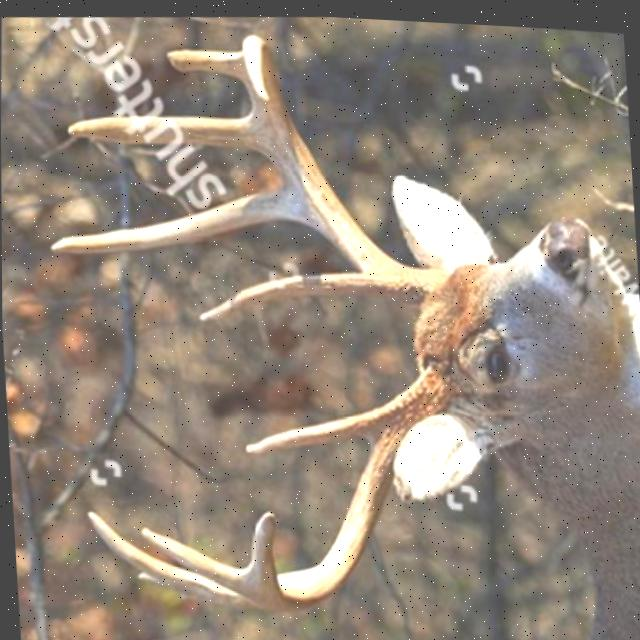L-F: (242, 30, 448, 303)
L-G1: (195, 268, 380, 319)
L-G2: (47, 184, 303, 253)
L-G3: (65, 113, 257, 148)
L-G4: (166, 46, 244, 79)
R-F: (249, 364, 449, 612)
R-G1: (243, 404, 373, 452)
R-G4: (138, 524, 247, 592)
